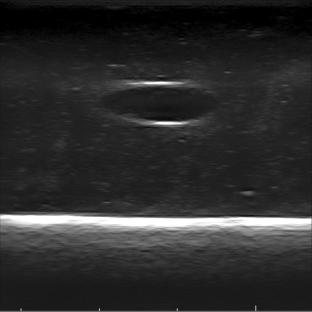vessel: (102, 81, 218, 126)
